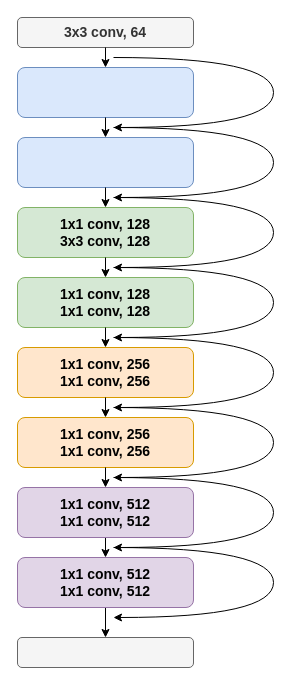
Image size: 291x685. Some labels were removed from this diagram. Here are the shapes that lost their labels. From the top down, the centre of each, then its label:
the point at 105,92: 1x1 conv, 64 3x3 conv, 64
the point at 105,162: 1x1 conv, 64 1x1 conv, 64
the point at 105,652: FC, 2
